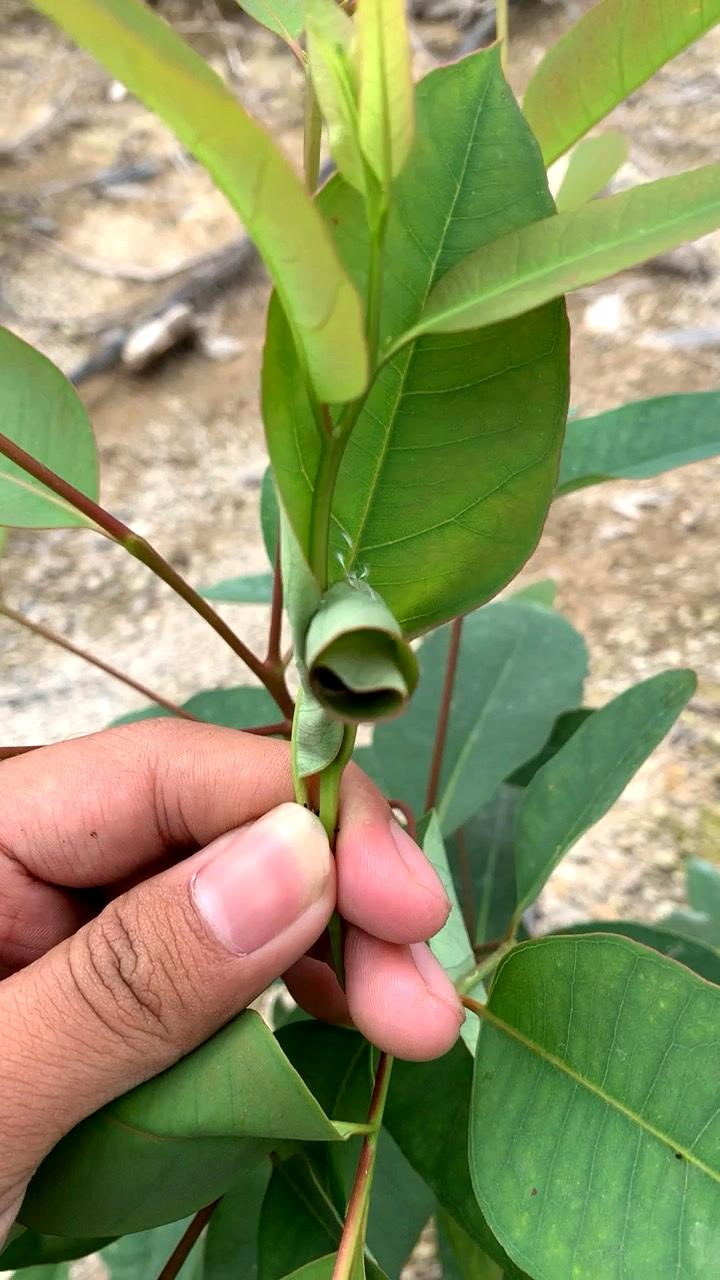Leaf Roller - Leaf: (213, 525, 498, 754)
